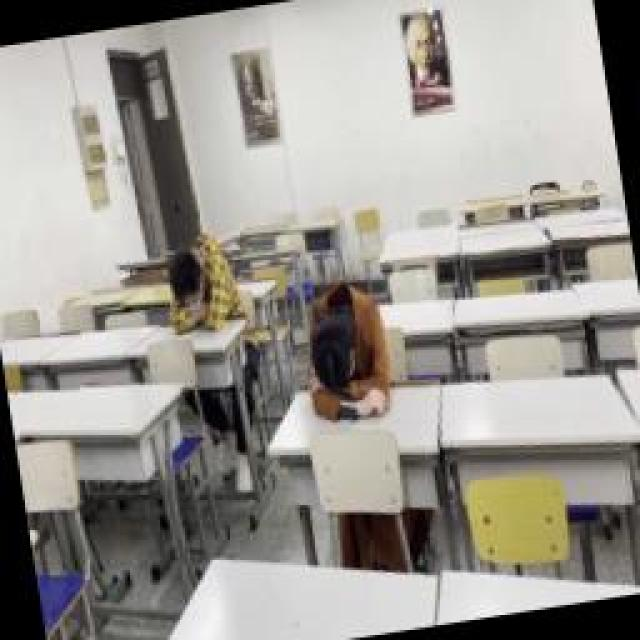sleep: (295, 277, 397, 425), (157, 228, 245, 338)
